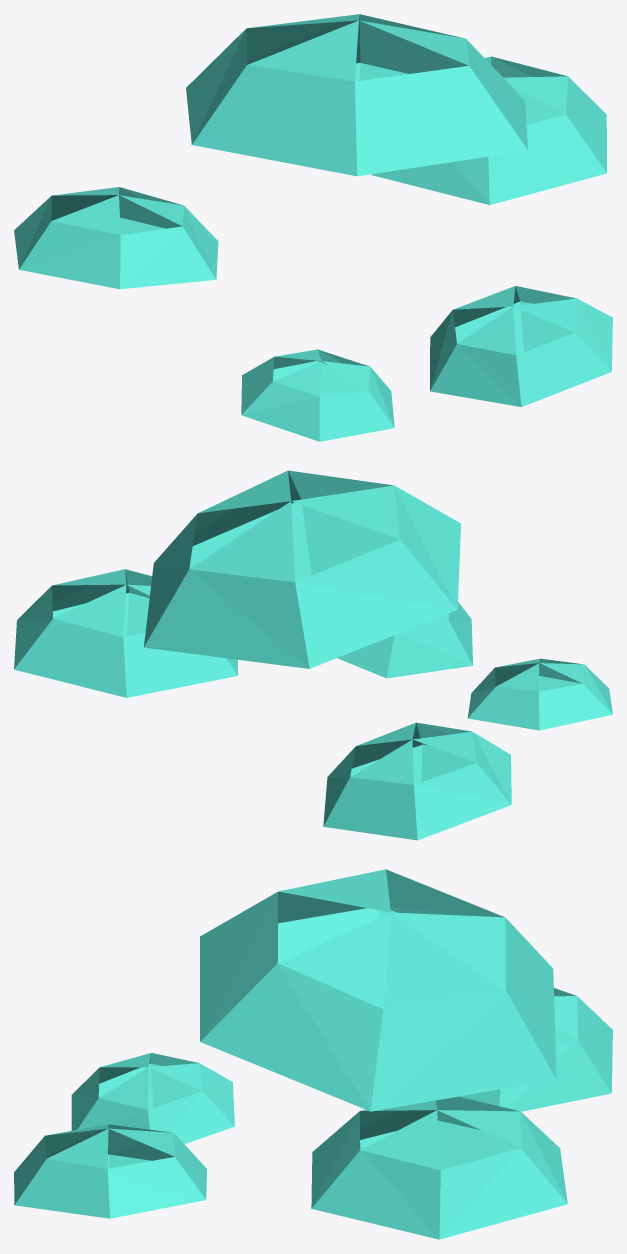
File: plant_glow_shroom_cyan_glow.fbx
3 renders of one model, top to bottom at view 1: azimuth 30°, elevation 25°; view 2: azimuth 150°, elevation 25°; view 3: azimuth 270°, elevation 25°, orthographic. The views are drawn at different scales.
Parts seen in each view (by area): view 1: plant_glow_shroom_cyan_glow; view 2: plant_glow_shroom_cyan_glow; view 3: plant_glow_shroom_cyan_glow.
Boxes of the visible parts, box(x1,y1,x2,y2) form: plant_glow_shroom_cyan_glow: box(14, 14, 612, 441); plant_glow_shroom_cyan_glow: box(14, 470, 612, 840); plant_glow_shroom_cyan_glow: box(14, 869, 612, 1239).
Size of the model in its own units: 533 by 256 by 467.
1 material, 1 textured.
